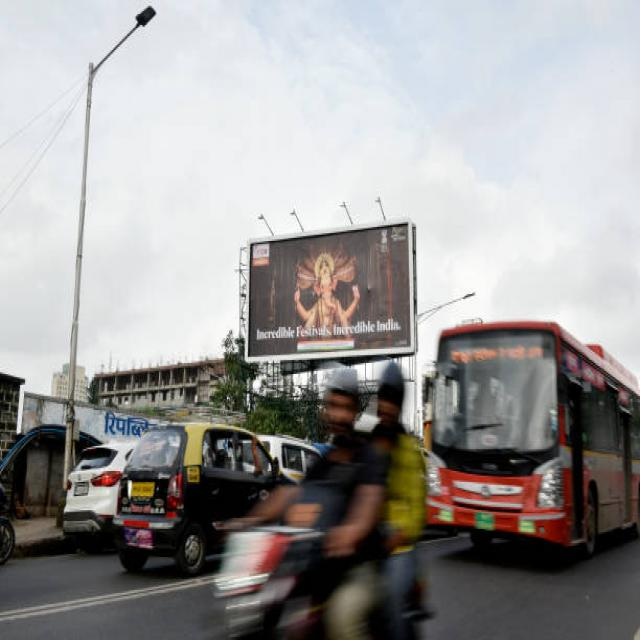Werbetafel frei: (236, 236, 416, 350)
